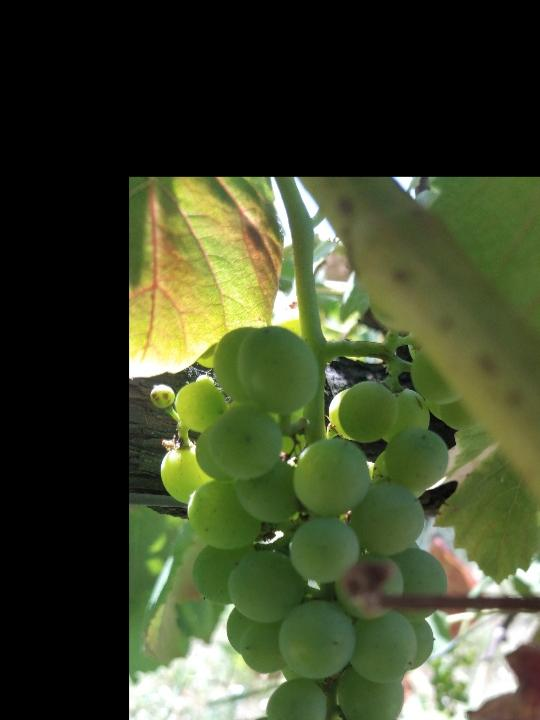grape: (147, 326, 449, 720)
